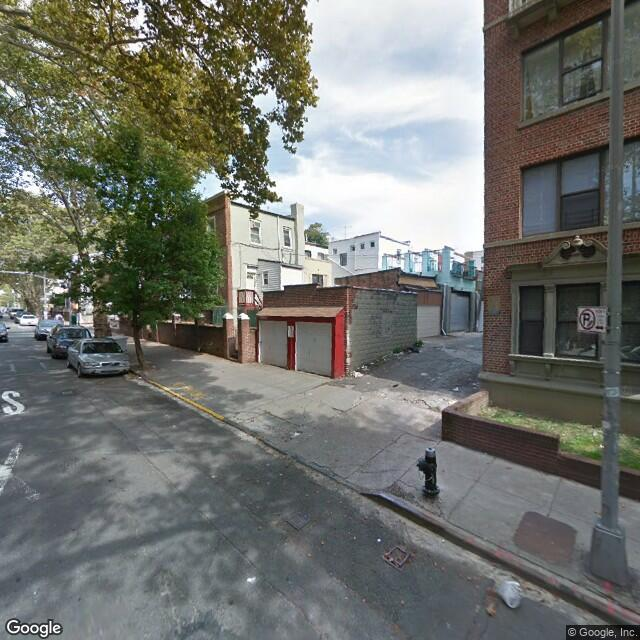litter: (489, 579, 525, 605), (292, 431, 302, 438), (354, 369, 363, 375), (453, 385, 459, 390), (377, 538, 380, 542)
